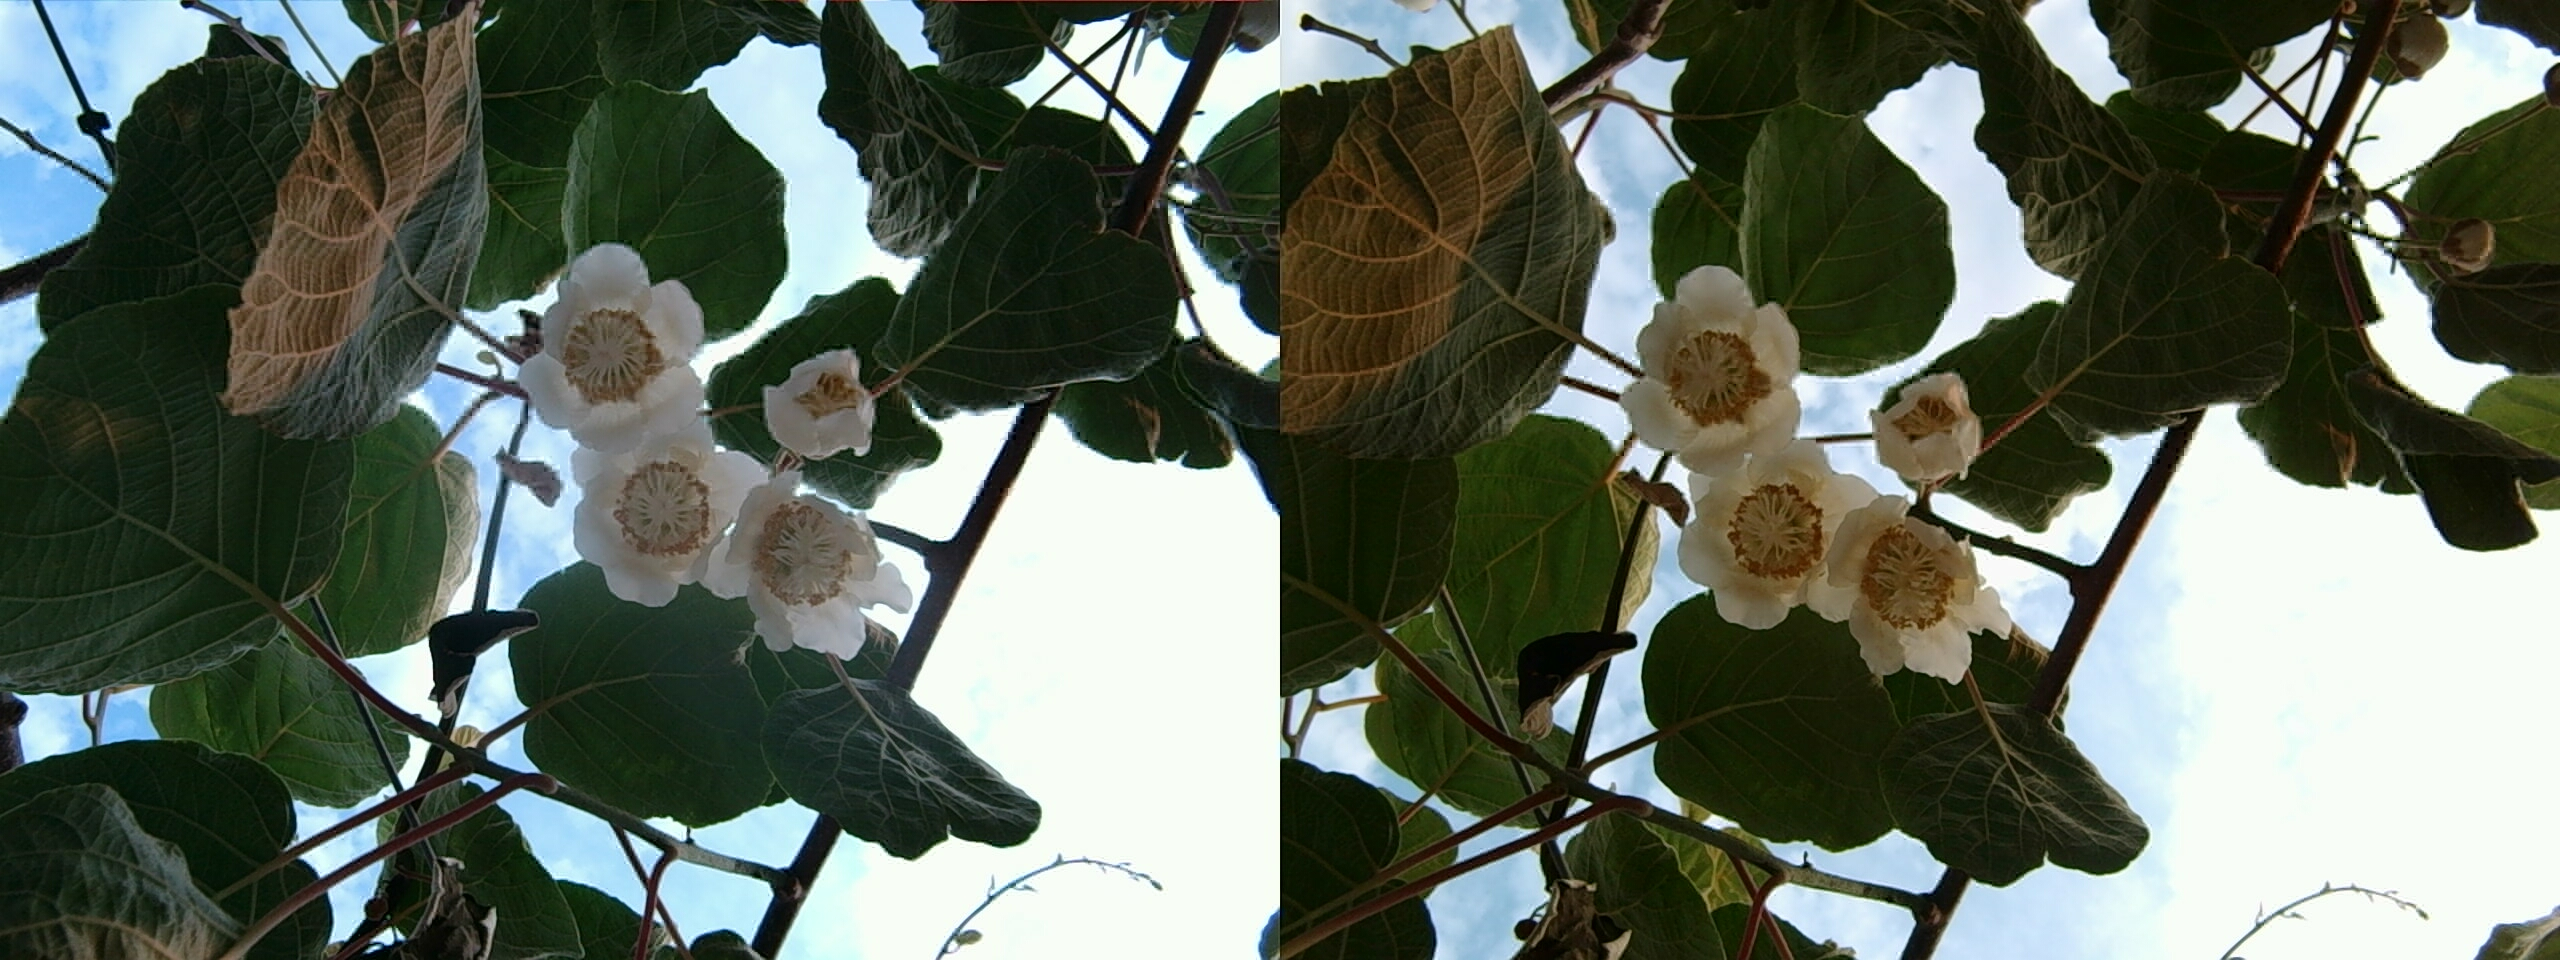flower: (503, 237, 713, 449), (1613, 255, 1799, 465), (709, 467, 908, 655), (1664, 441, 1873, 619), (1817, 496, 2007, 678), (545, 424, 748, 593), (762, 344, 875, 457), (1873, 371, 1977, 482)
